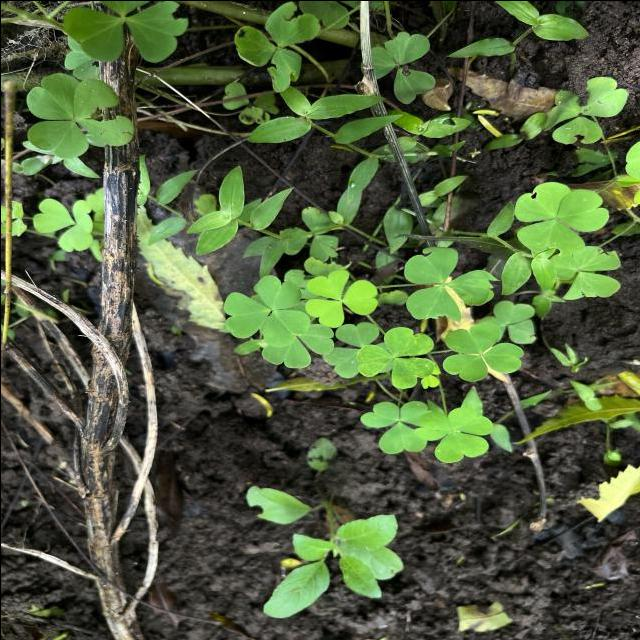Oxalis corniculata: (24, 70, 134, 160), (60, 0, 190, 64), (402, 244, 499, 322), (512, 180, 609, 257), (223, 273, 310, 347), (355, 325, 434, 389), (441, 322, 524, 382), (412, 406, 493, 463), (303, 269, 378, 328), (358, 400, 427, 454)
